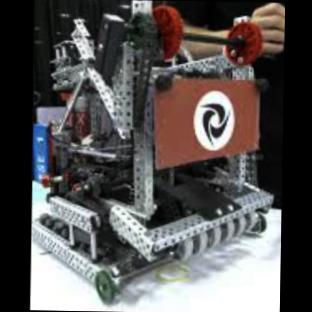Robot: (30, 0, 272, 303)
